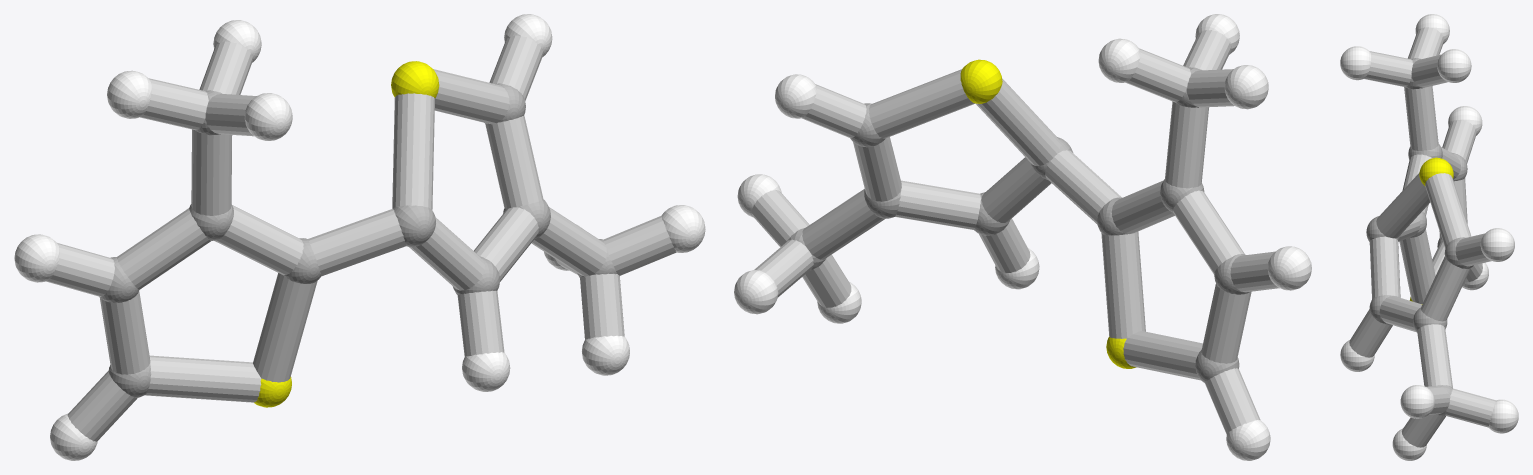
The model's file is Methylthiophene_Phi_50_Theta_340_Methylthiophene.glb.
3 renders of one model, left to right at view 1: azimuth 30°, elevation 25°; view 2: azimuth 150°, elevation 25°; view 3: azimuth 270°, elevation 25°, orthographic. The views are drawn at different scales.
Visible parts, largest first — view 1: grp7965, grp3621, grp1, grp7241; view 2: grp7965, grp3621, grp1, grp7241; view 3: grp7965, grp3621, grp1, grp7241.
Boxes of the visible parts, x1,y1,x2,y2 form: grp7965: (46,35,676,441); grp3621: (14,14,705,460); grp1: (99,83,616,397); grp7241: (254,61,439,407); grp7965: (751,30,1279,434); grp3621: (734,14,1311,460); grp1: (787,67,1249,382); grp7241: (960,59,1136,368); grp7965: (1349,27,1495,447); grp3621: (1340,14,1518,460); grp1: (1366,58,1473,416); grp7241: (1409,157,1453,304).
Size of the model in its own units: 9.33 by 5.62 by 3.12.
